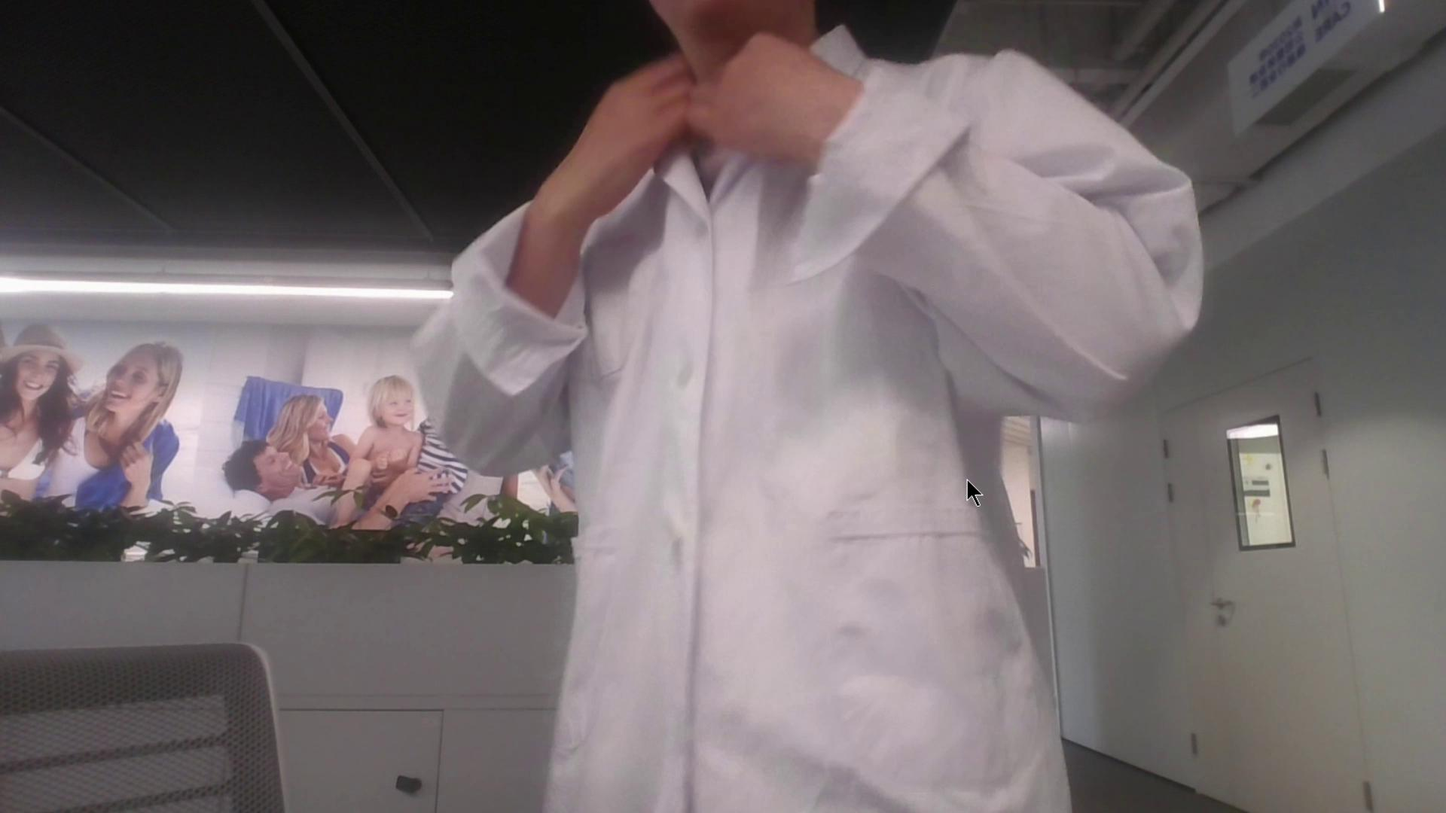Lab_coat: (402, 20, 1216, 813)
